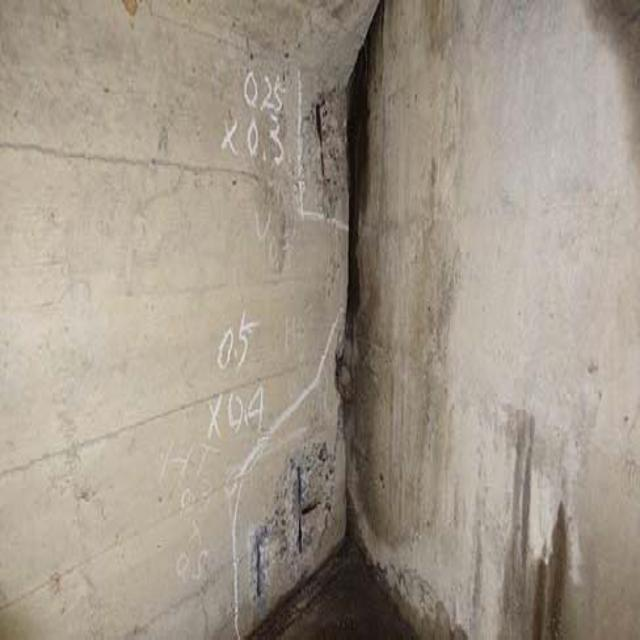spalling: (217, 420, 343, 613), (284, 54, 369, 226)
